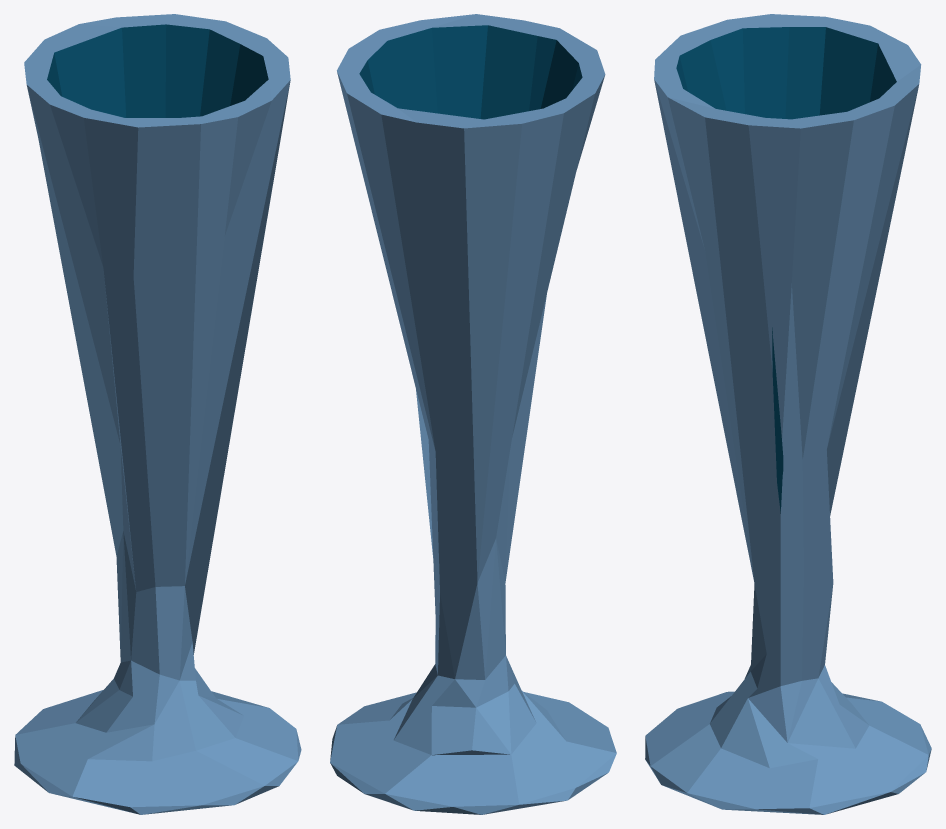
Rendered from DrinkingGlass05.fbx.
3 renders of one model, left to right at view 1: azimuth 30°, elevation 25°; view 2: azimuth 150°, elevation 25°; view 3: azimuth 270°, elevation 25°, orthographic.
Visible parts, largest first — view 1: DrinkingGlass05LowPoly; view 2: DrinkingGlass05LowPoly; view 3: DrinkingGlass05LowPoly.
Boxes of the visible parts, x1,y1,x2,y2 form: DrinkingGlass05LowPoly: [14, 14, 301, 814]; DrinkingGlass05LowPoly: [330, 14, 616, 814]; DrinkingGlass05LowPoly: [645, 14, 931, 814].
Bounding box in the file's own units: 7.54 × 20.04 × 7.59.
